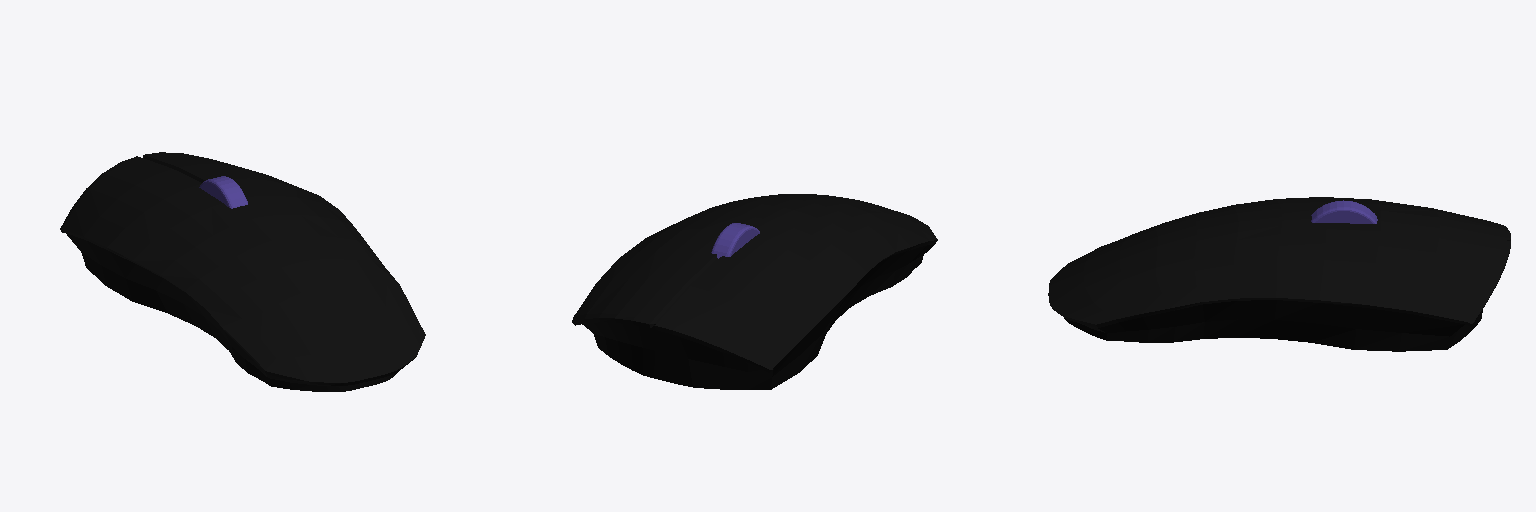
File: mouse.obj
The picture shows the model from 3 angles: view 1: azimuth 30°, elevation 25°; view 2: azimuth 150°, elevation 25°; view 3: azimuth 270°, elevation 25°; orthographic projection.
Visible parts, largest first — view 1: mesh_mouse; view 2: mesh_mouse; view 3: mesh_mouse.
Boxes of the visible parts, <box> form: mesh_mouse: <box>60,152,425,391</box>; mesh_mouse: <box>572,194,937,389</box>; mesh_mouse: <box>1048,197,1510,351</box>.
Bounding box in the file's own units: 2.49 × 1.17 × 4.7.